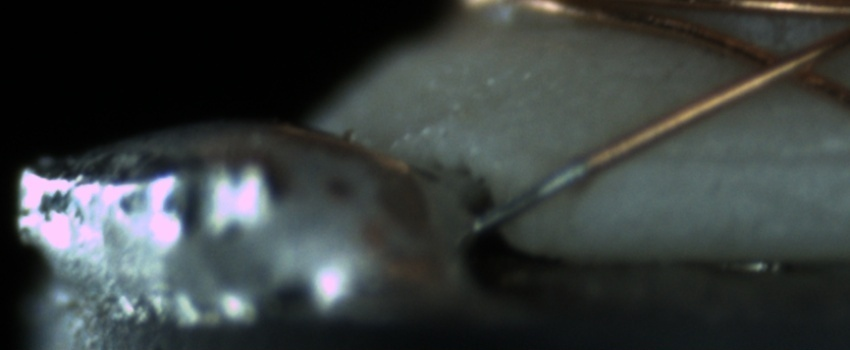CL: (729, 33, 833, 96)
DL: (633, 124, 849, 188)
TS: (472, 162, 588, 234)
